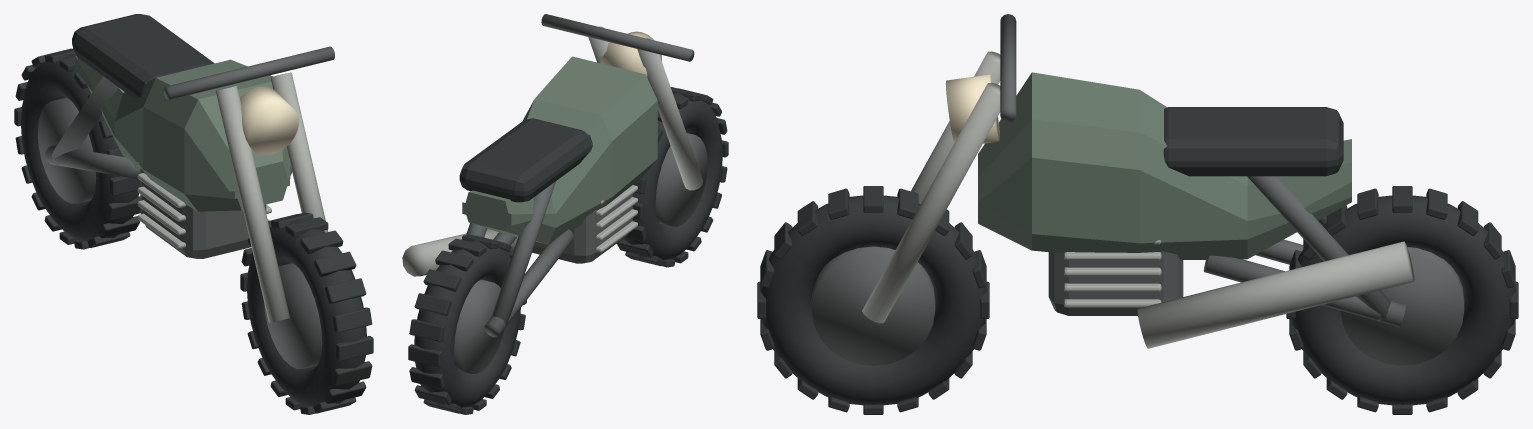
The model's file is Moto.fbx.
3 views of the same model, side by side, from view 1: azimuth 30°, elevation 25°; view 2: azimuth 150°, elevation 25°; view 3: azimuth 270°, elevation 25° (orthographic). The views are drawn at different scales.
Parts seen in each view (by area): view 1: Moto; view 2: Moto; view 3: Moto.
Part boxes in pixels (<box>): Moto: <box>14,14,373,414</box>; Moto: <box>402,14,728,414</box>; Moto: <box>757,14,1518,414</box>.
Size of the model in its own units: 66 by 113 by 226.
